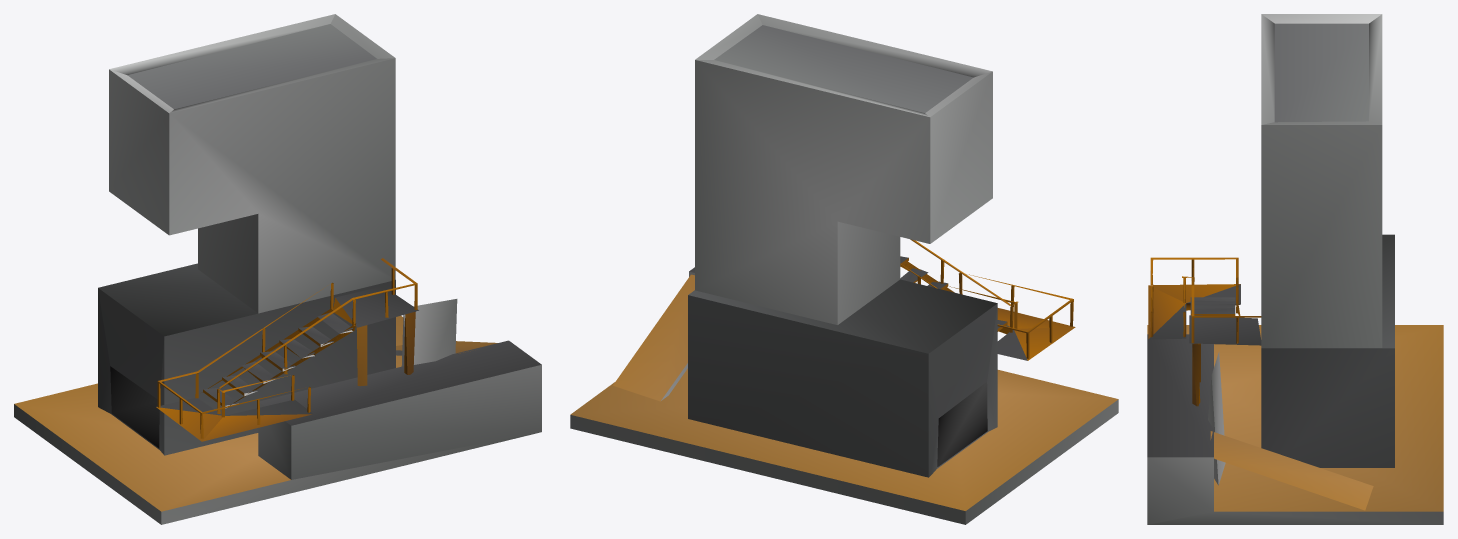
Rendered from Edificio4.fbx.
3 renders of one model, left to right at view 1: azimuth 30°, elevation 25°; view 2: azimuth 150°, elevation 25°; view 3: azimuth 270°, elevation 25°, orthographic. The views are drawn at different scales.
Parts seen in each view (by area): view 1: edificacao4; view 2: edificacao4; view 3: edificacao4.
Part boxes in pixels (x1,y1,x2,y2): edificacao4: (14, 14, 541, 524); edificacao4: (570, 14, 1118, 524); edificacao4: (1147, 14, 1443, 524).
Size of the model in its own units: 1775 by 1580 by 1190.
